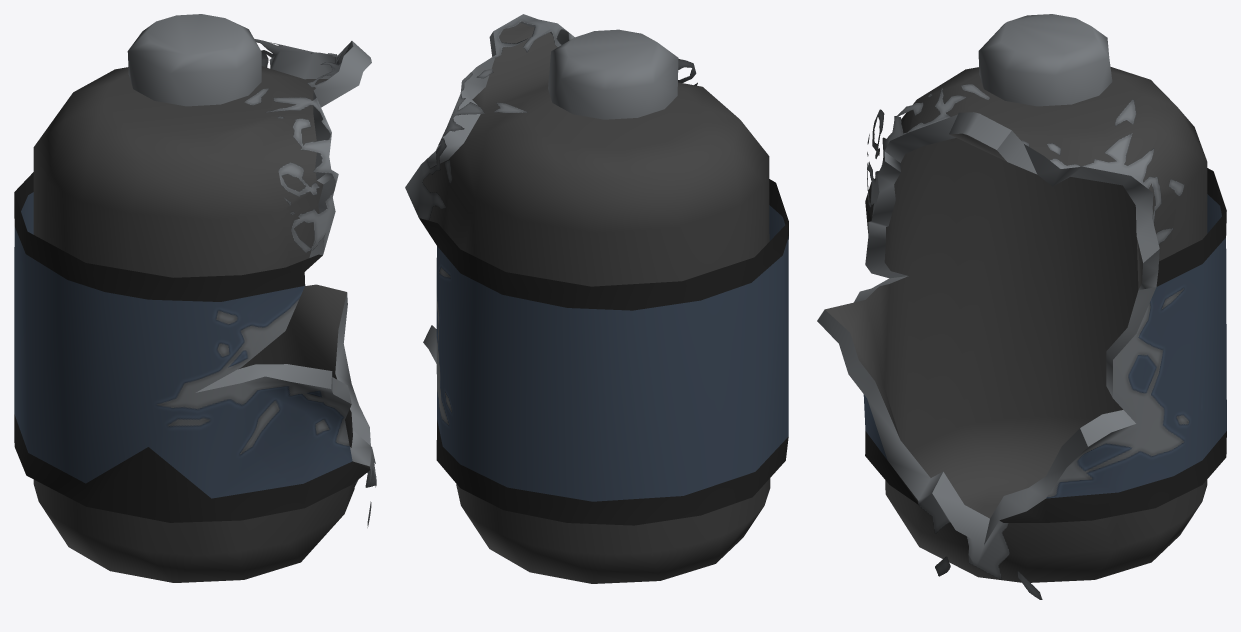
Rendered from env_ruin_tank_02_lod1.fbx.
The picture shows the model from 3 angles, left to right: view 1: azimuth 30°, elevation 25°; view 2: azimuth 150°, elevation 25°; view 3: azimuth 270°, elevation 25°; orthographic projection. The views are drawn at different scales.
Parts seen in each view (by area): view 1: env_ruin_tank_02_lod1; view 2: env_ruin_tank_02_lod1; view 3: env_ruin_tank_02_lod1.
Boxes of the visible parts, x1,y1,x2,y2 form: env_ruin_tank_02_lod1: (14, 14, 376, 582); env_ruin_tank_02_lod1: (405, 14, 788, 583); env_ruin_tank_02_lod1: (817, 14, 1226, 599).
Size of the model in its own units: 36.7 by 56.7 by 39.42.
